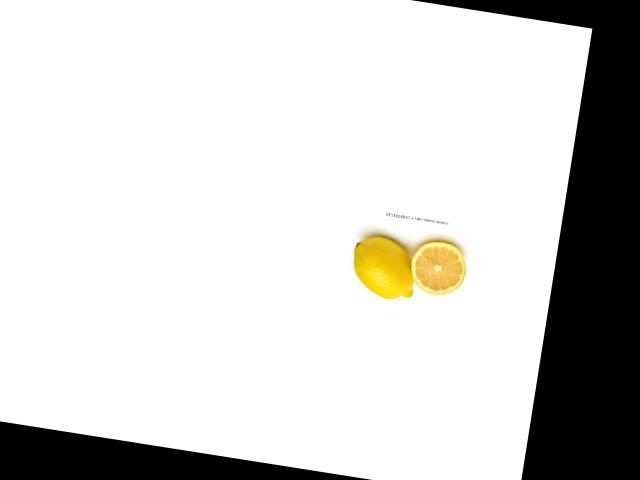lemon: (342, 230, 421, 302)
